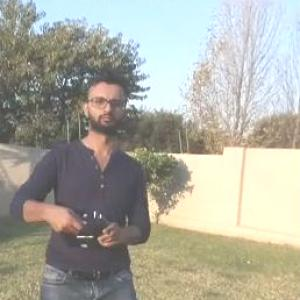follow: (2, 58, 150, 299)
